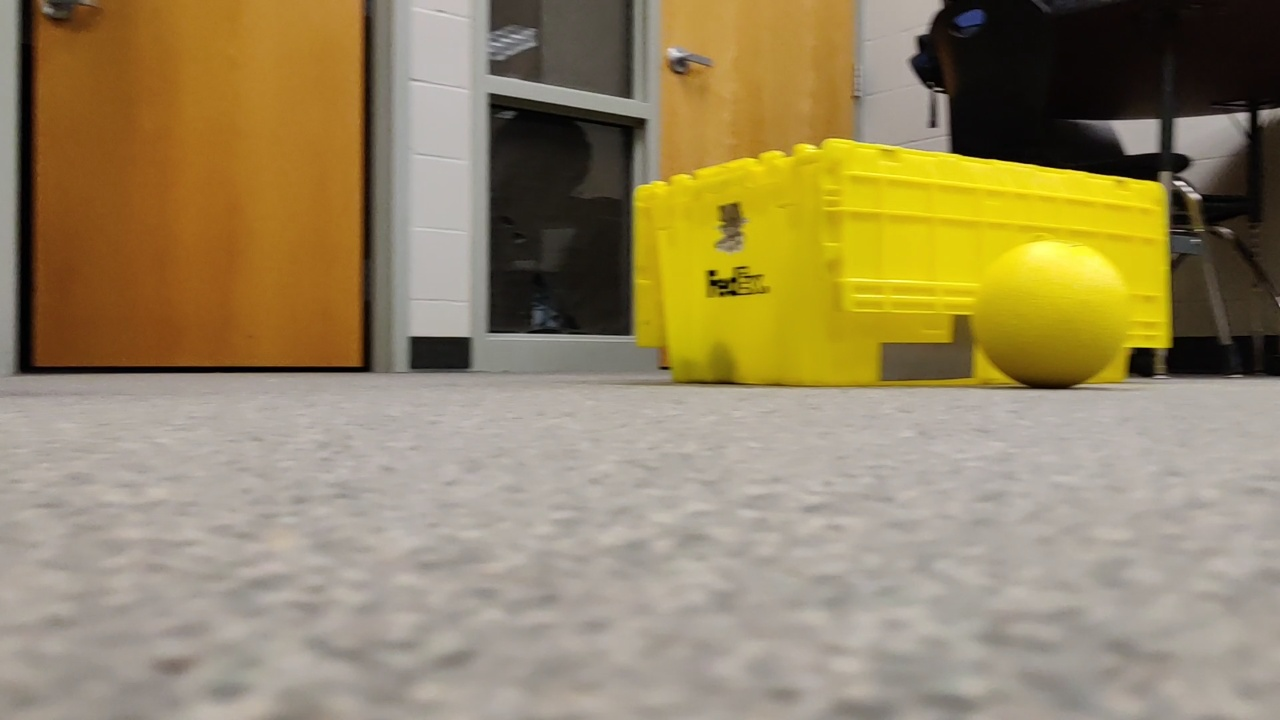Ball: (966, 226, 1139, 409)
